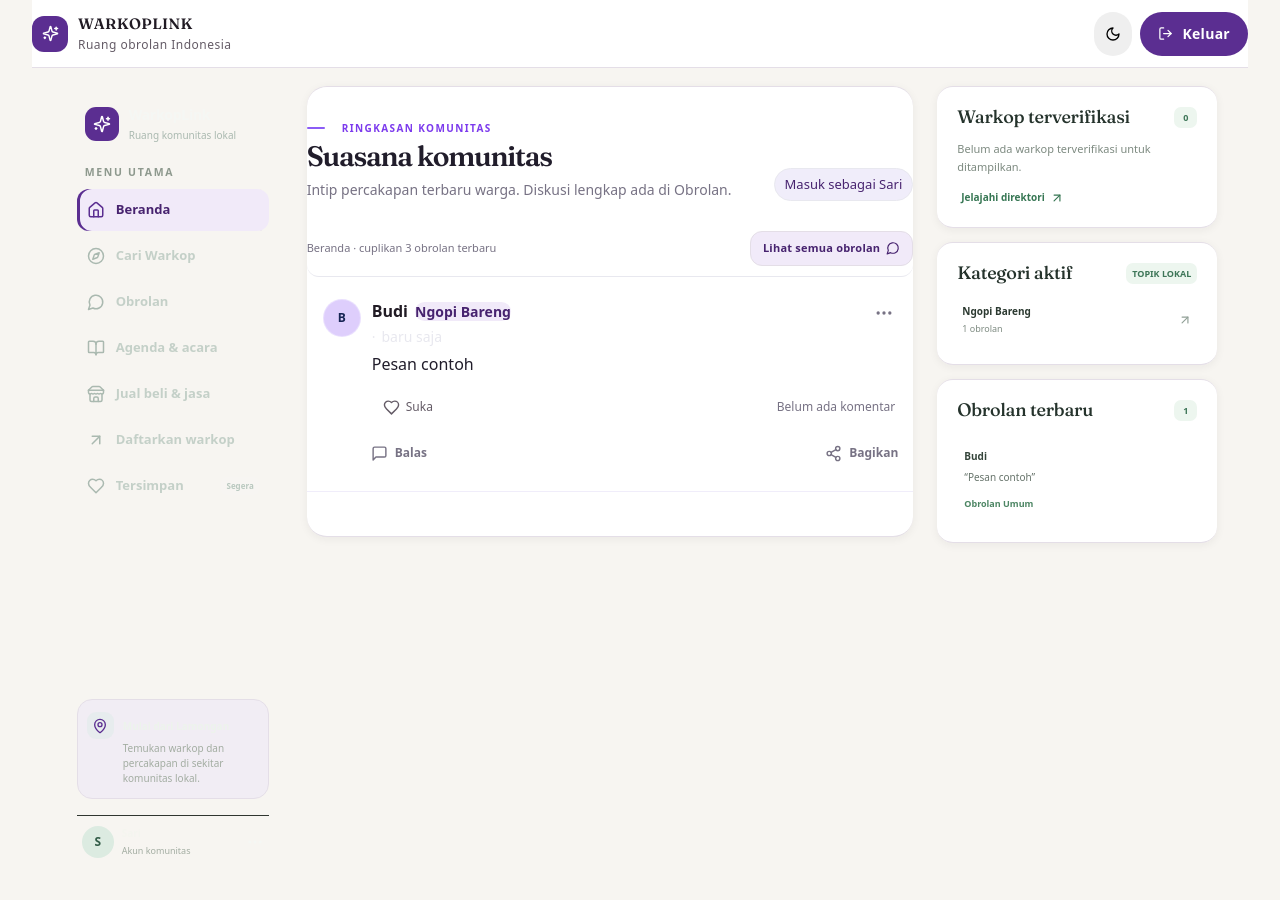
laporan obrolan › anggota dapat mengirim laporan dengan alasan terpilih
Step 1. Click the button named "Opsi postingan" → click(884, 312), box [866,294,902,330]
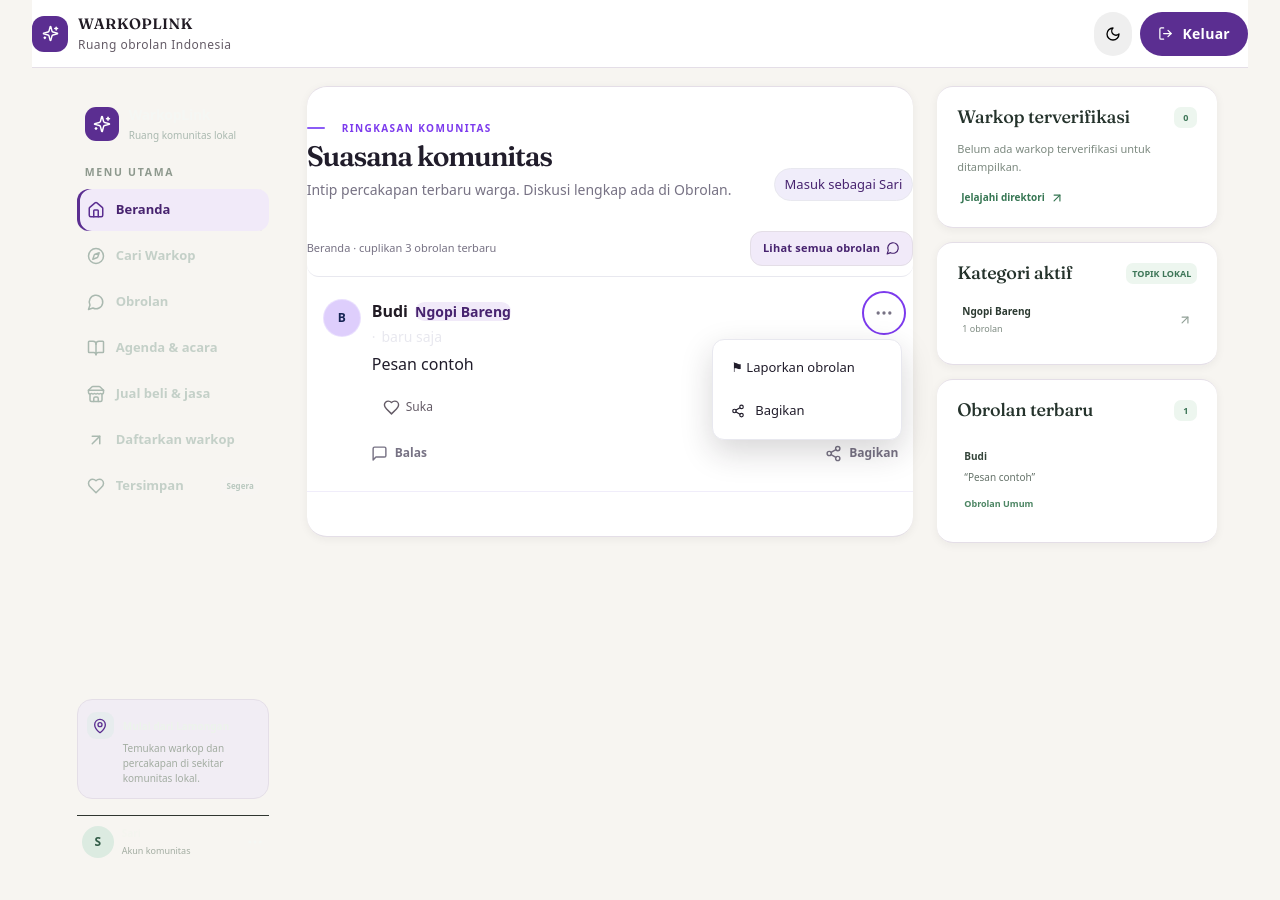
Step 2. Click the menu item "⚑ Laporkan obrolan" → click(807, 367), box [719,346,895,389]
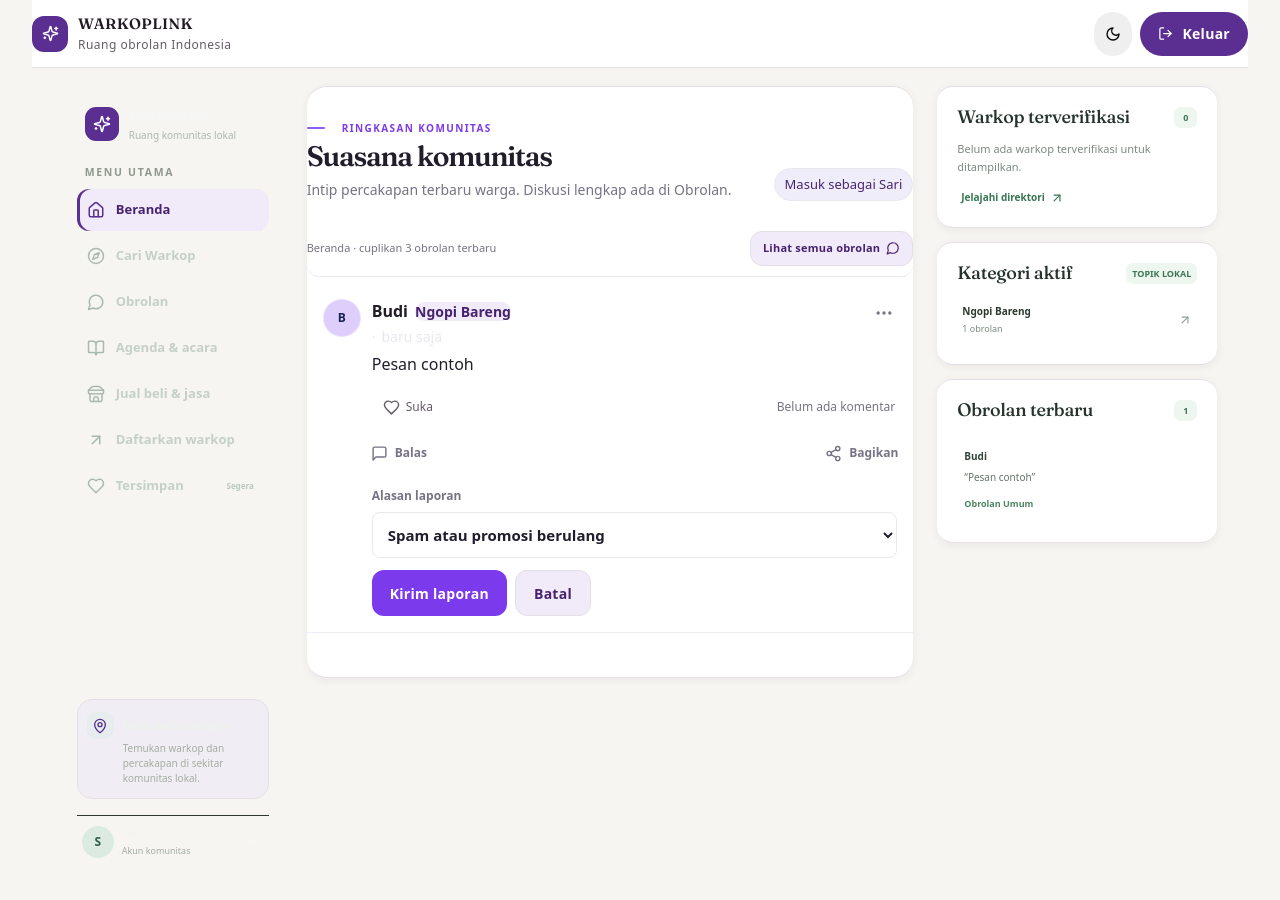
Step 3. Select "Lainnya" in the dropdown labelled "Alasan laporan" → (634, 536), box [372,512,897,558]
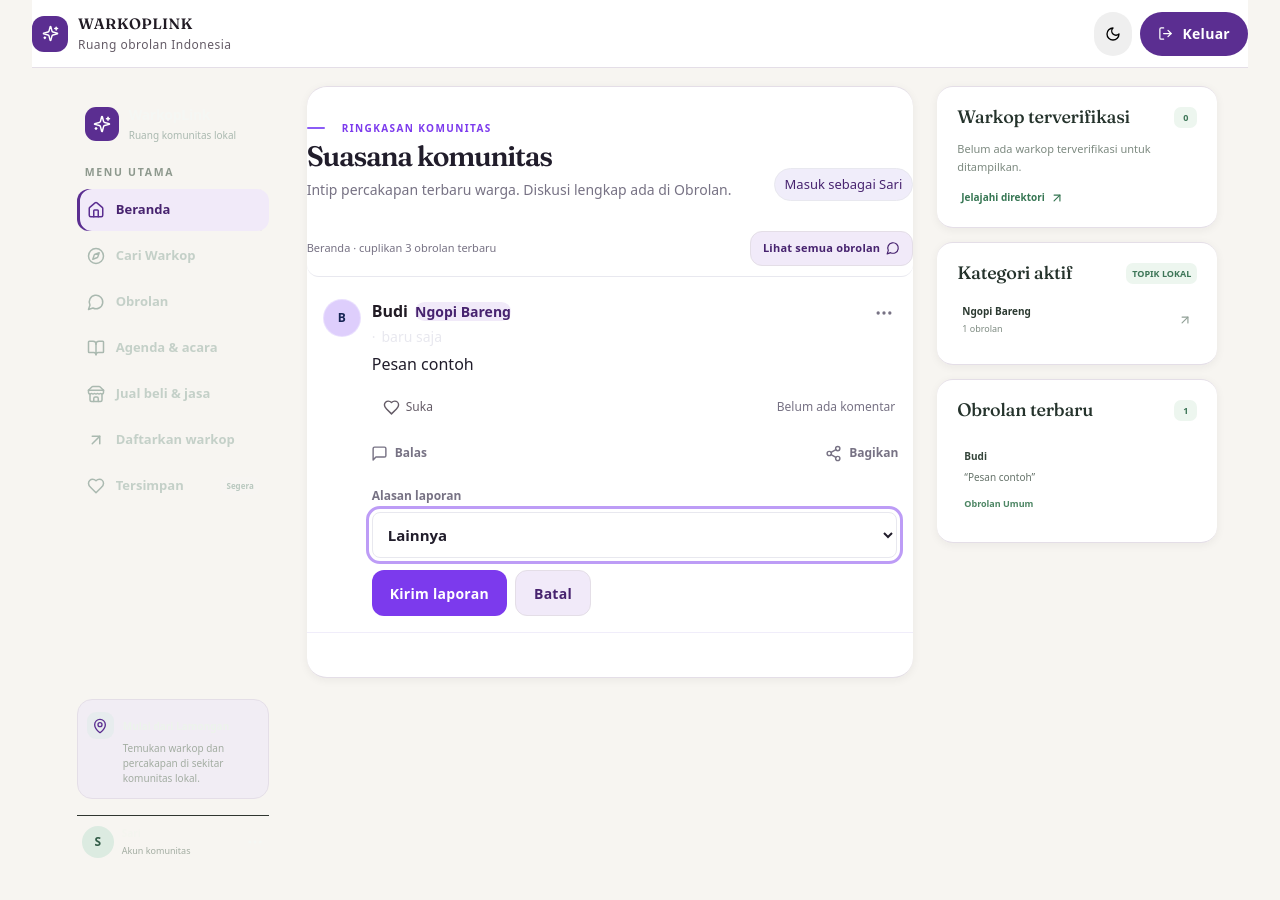
Step 4. Click the button "Kirim laporan" → click(439, 594), box [372,570,507,616]
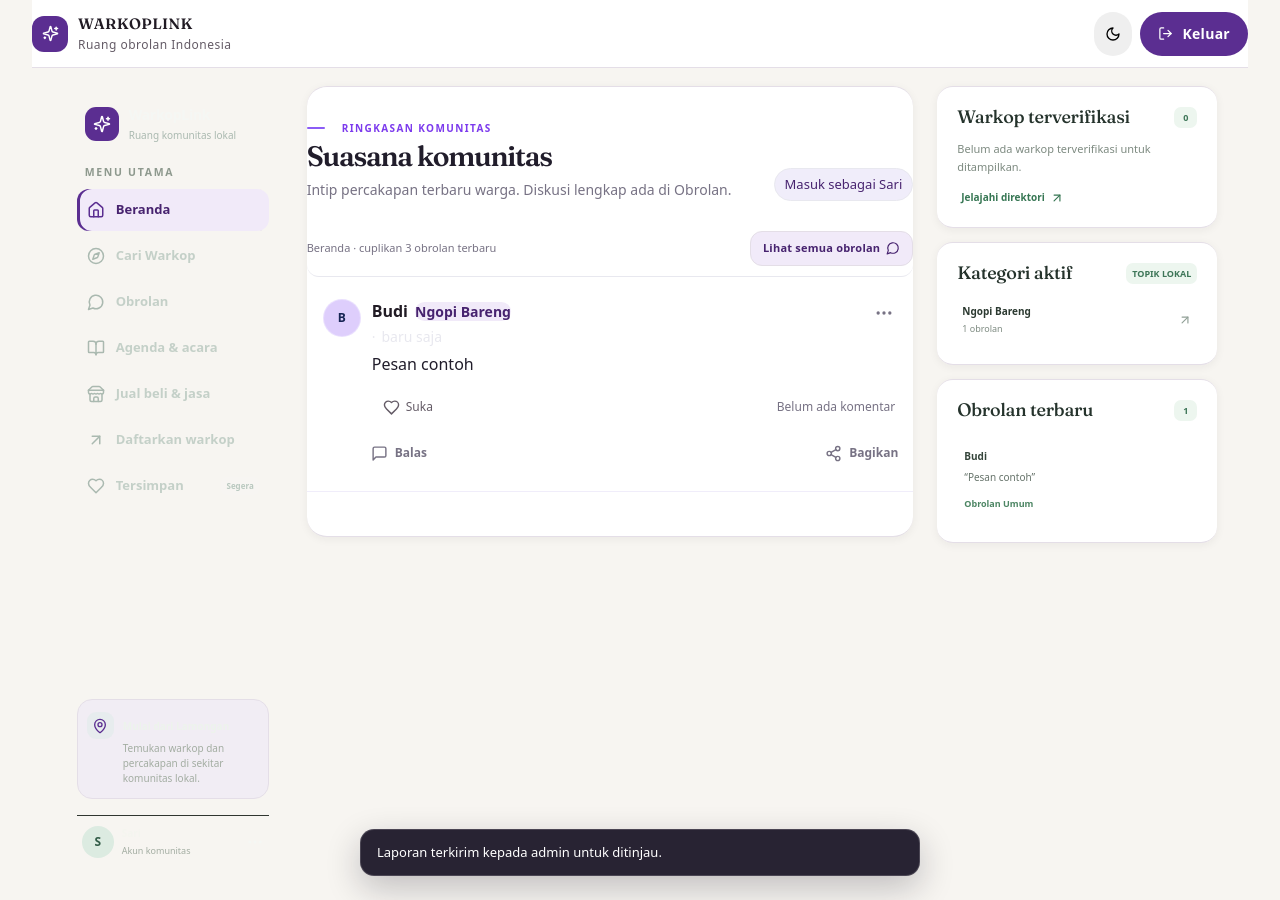
Now the text "Laporan terkirim kepada admin untuk ditinjau." is shown, box [360,829,920,876]
